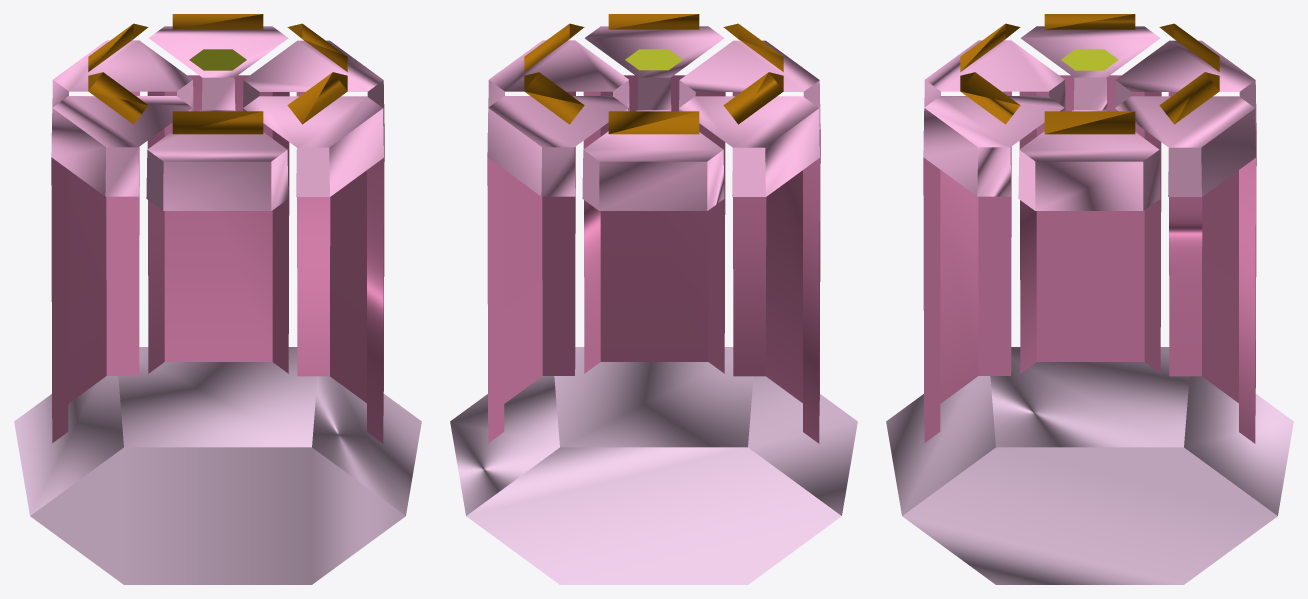
Rendered from cell_power_1_array_a_lod3.glb.
The picture shows the model from 3 angles, left to right: view 1: azimuth 30°, elevation 25°; view 2: azimuth 150°, elevation 25°; view 3: azimuth 270°, elevation 25°; orthographic projection.
Bounding box in the file's own units: 0.9207 × 1.31 × 1.06.
